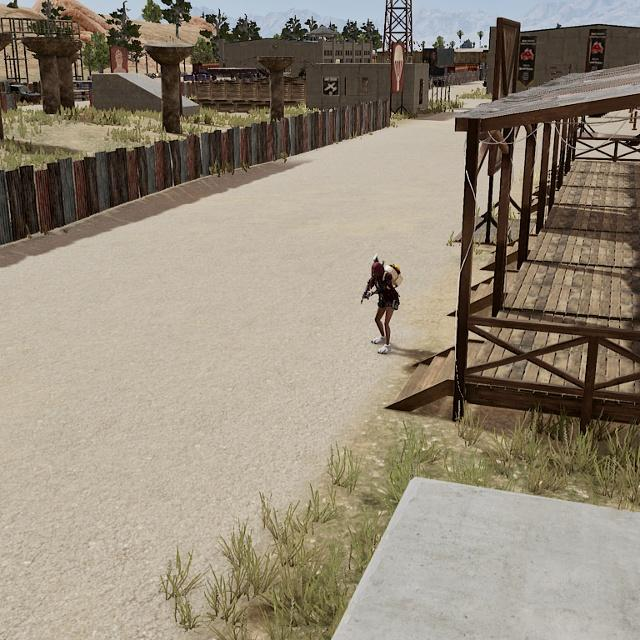head: (371, 261, 385, 281)
people: (363, 261, 400, 355)
